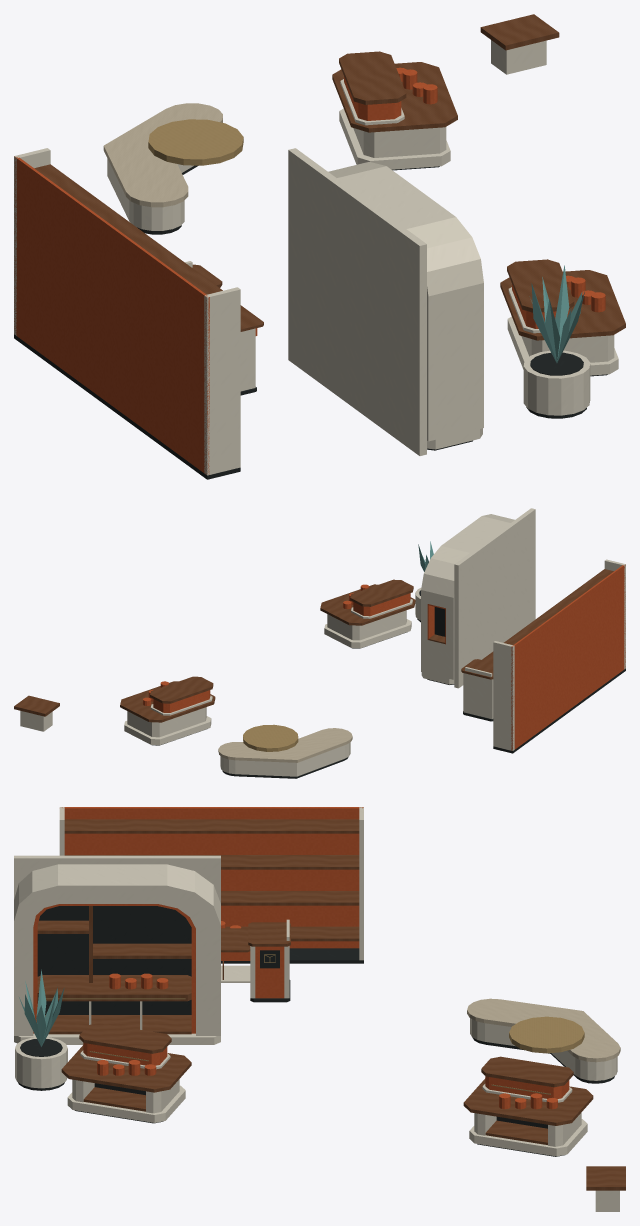
The model's file is SHOP_D09_P100_F262__fitout.glb.
The picture shows the model from 3 angles, top to bottom: view 1: azimuth 30°, elevation 25°; view 2: azimuth 150°, elevation 25°; view 3: azimuth 270°, elevation 25°; orthographic projection. The views are drawn at different scales.
Parts seen in each view (by area): view 1: SHOP_D09_P100_F262__fitout__ivory_enamel, SHOP_D09_P100_F262__fitout__retail_terracotta_enamel, SHOP_D09_P100_F262__fitout__warm_walnut, SHOP_D09_P100_F262__fitout__oatmeal_weave, SHOP_D09_P100_F262__fitout__champagne_metal, SHOP_D09_P100_F262__fitout__dark_rubber, SHOP_D09_P100_F262__fitout__quiet_teal; view 2: SHOP_D09_P100_F262__fitout__ivory_enamel, SHOP_D09_P100_F262__fitout__retail_terracotta_enamel, SHOP_D09_P100_F262__fitout__warm_walnut, SHOP_D09_P100_F262__fitout__oatmeal_weave, SHOP_D09_P100_F262__fitout__dark_rubber, SHOP_D09_P100_F262__fitout__champagne_metal; view 3: SHOP_D09_P100_F262__fitout__warm_walnut, SHOP_D09_P100_F262__fitout__ivory_enamel, SHOP_D09_P100_F262__fitout__retail_terracotta_enamel, SHOP_D09_P100_F262__fitout__dark_rubber, SHOP_D09_P100_F262__fitout__oatmeal_weave, SHOP_D09_P100_F262__fitout__champagne_metal, SHOP_D09_P100_F262__fitout__quiet_teal.
Boxes of the visible parts, x1=… form: SHOP_D09_P100_F262__fitout__ivory_enamel: x1=14, y1=40, x2=618, y2=475; SHOP_D09_P100_F262__fitout__retail_terracotta_enamel: x1=14, y1=67, x2=605, y2=474; SHOP_D09_P100_F262__fitout__warm_walnut: x1=34, y1=14, x2=625, y2=340; SHOP_D09_P100_F262__fitout__oatmeal_weave: x1=103, y1=103, x2=222, y2=207; SHOP_D09_P100_F262__fitout__champagne_metal: x1=148, y1=119, x2=243, y2=165; SHOP_D09_P100_F262__fitout__dark_rubber: x1=14, y1=165, x2=607, y2=479; SHOP_D09_P100_F262__fitout__quiet_teal: x1=529, y1=265, x2=584, y2=362; SHOP_D09_P100_F262__fitout__ivory_enamel: x1=20, y1=508, x2=625, y2=776; SHOP_D09_P100_F262__fitout__retail_terracotta_enamel: x1=143, y1=564, x2=625, y2=750; SHOP_D09_P100_F262__fitout__warm_walnut: x1=14, y1=569, x2=613, y2=722; SHOP_D09_P100_F262__fitout__oatmeal_weave: x1=218, y1=728, x2=352, y2=762; SHOP_D09_P100_F262__fitout__dark_rubber: x1=152, y1=590, x2=625, y2=778; SHOP_D09_P100_F262__fitout__champagne_metal: x1=243, y1=724, x2=298, y2=751; SHOP_D09_P100_F262__fitout__warm_walnut: x1=37, y1=819, x2=625, y2=1190; SHOP_D09_P100_F262__fitout__ivory_enamel: x1=14, y1=807, x2=619, y2=1211; SHOP_D09_P100_F262__fitout__retail_terracotta_enamel: x1=33, y1=807, x2=569, y2=1109; SHOP_D09_P100_F262__fitout__dark_rubber: x1=18, y1=906, x2=614, y2=1156; SHOP_D09_P100_F262__fitout__oatmeal_weave: x1=467, y1=998, x2=620, y2=1062; SHOP_D09_P100_F262__fitout__champagne_metal: x1=46, y1=954, x2=584, y2=1094; SHOP_D09_P100_F262__fitout__quiet_teal: x1=19, y1=969, x2=64, y2=1046.
Size of the model in its own units: 10.25 by 3 by 10.05.
7 materials, 6 textured.
